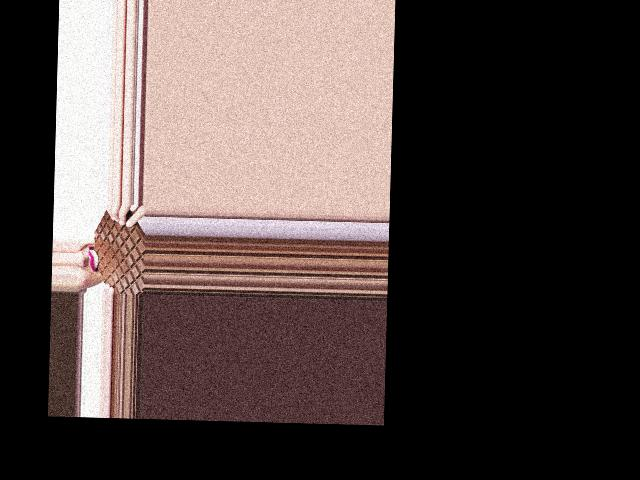chocolate: (90, 203, 146, 294)
